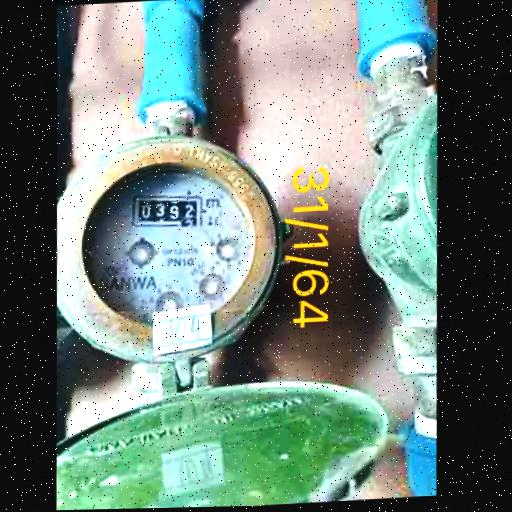0: (138, 199, 153, 221)
2: (180, 199, 197, 226)
3: (151, 198, 169, 220)
9: (165, 199, 182, 222)
border_water_meter_number: (128, 189, 205, 233)
